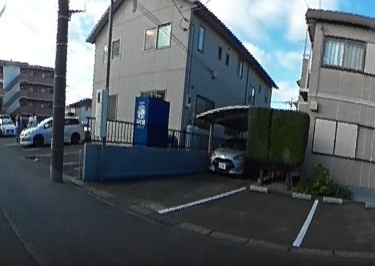person: (28, 112, 36, 126)
